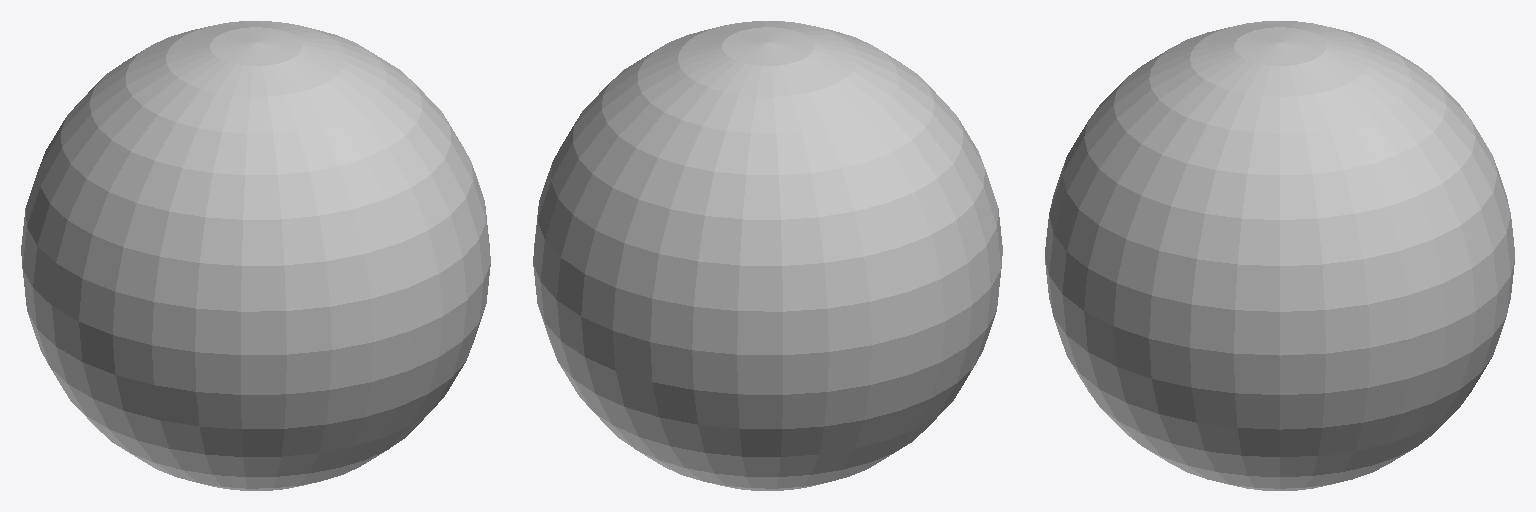
Rendered from Discokugel.obj.
3 views of the same model, side by side, from view 1: azimuth 30°, elevation 25°; view 2: azimuth 150°, elevation 25°; view 3: azimuth 270°, elevation 25° (orthographic).
Visible parts, largest first — view 1: Discokugel_Sphere.109; view 2: Discokugel_Sphere.109; view 3: Discokugel_Sphere.109.
Part boxes in pixels (x1,y1,x2,y2): Discokugel_Sphere.109: (21,21,490,490); Discokugel_Sphere.109: (533,21,1002,490); Discokugel_Sphere.109: (1045,21,1514,490).
Bounding box in the file's own units: 1 × 1 × 1.